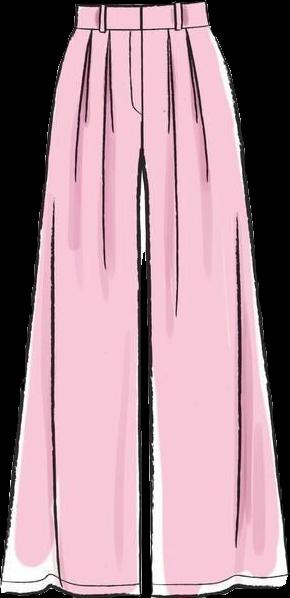Hemline: (147, 581, 289, 597), (0, 581, 140, 597)
Pantleg: (141, 1, 287, 595), (1, 4, 146, 594)
Waistline: (75, 18, 211, 35), (73, 0, 204, 10)
